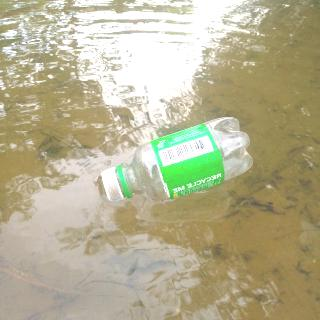bottle: (100, 116, 253, 204)
